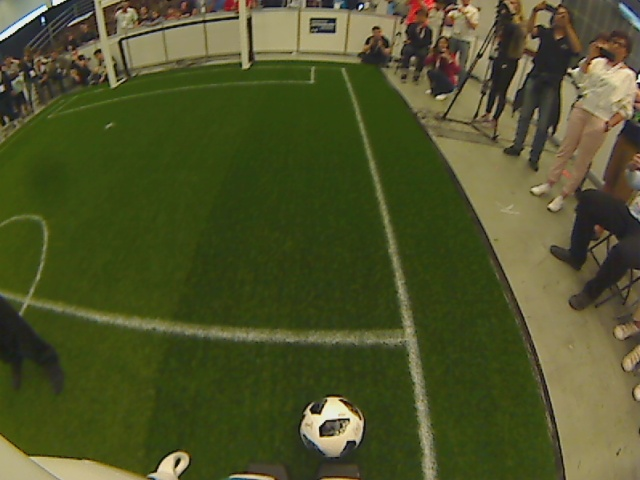ball: (299, 391, 367, 458)
